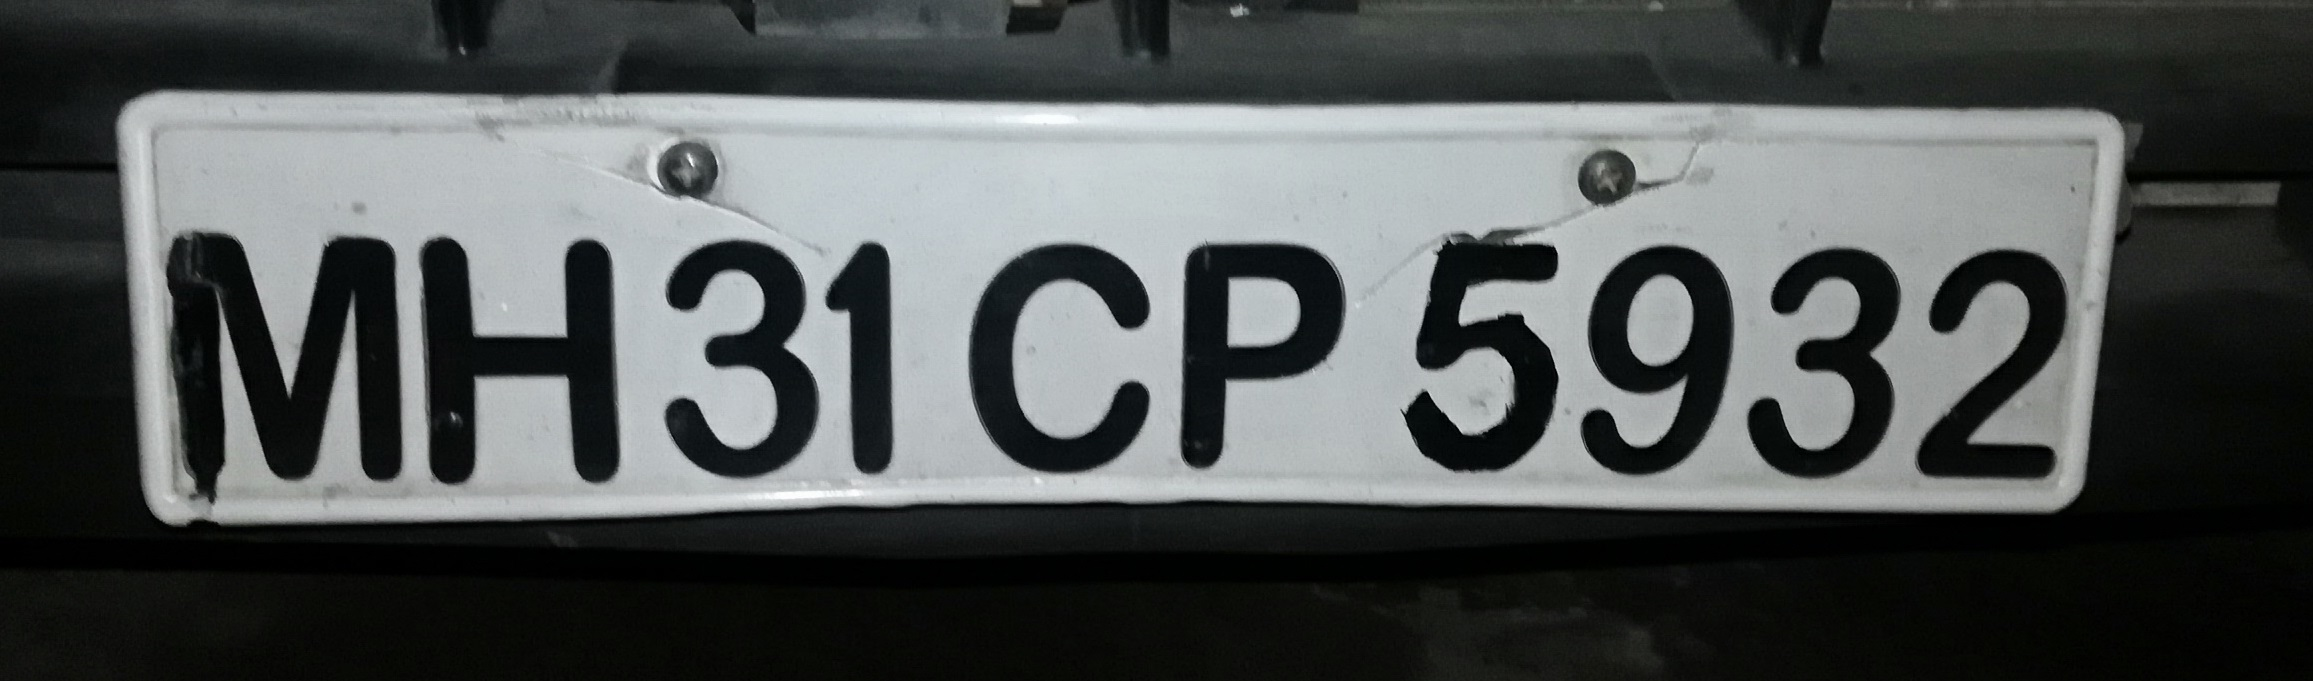numberplate: (110, 80, 2133, 514)
